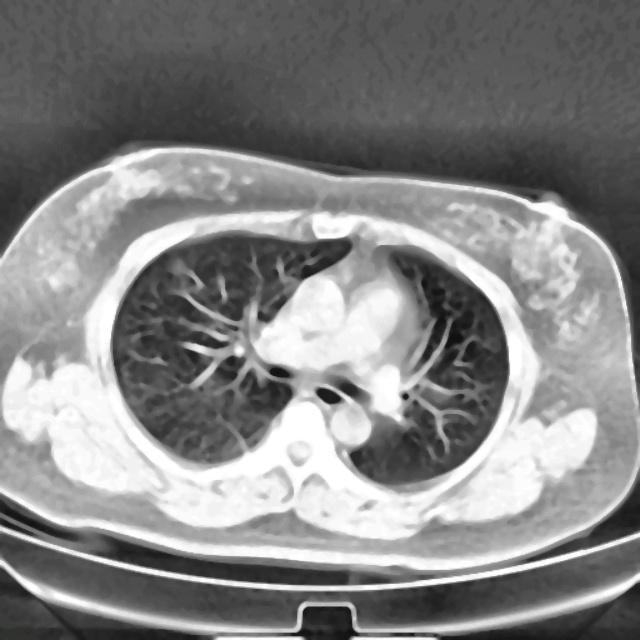covid: (1, 143, 637, 574)
